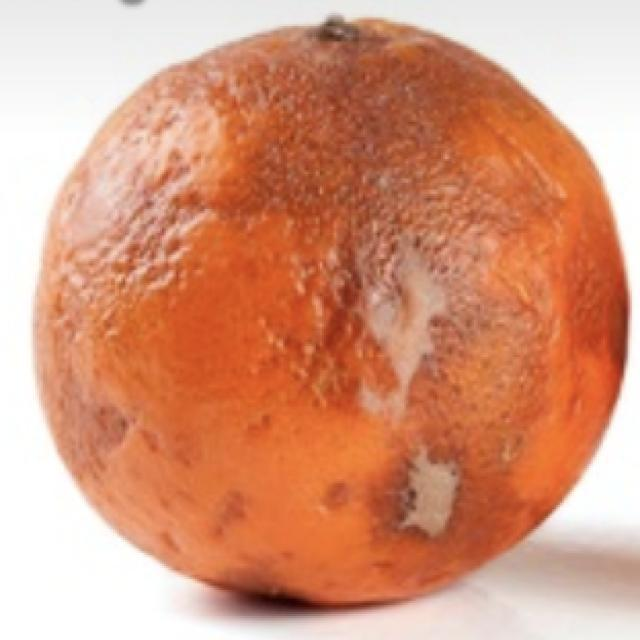sangat-busuk: (37, 19, 627, 603)
